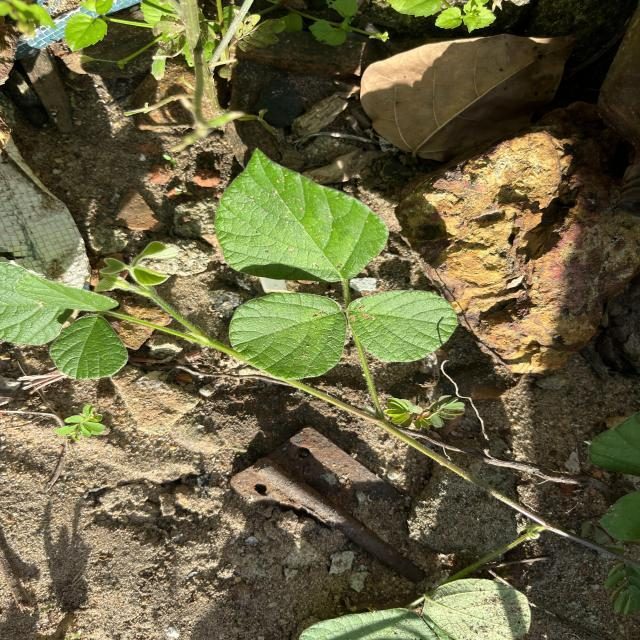Pseudarthria viscida: (213, 144, 459, 382)
